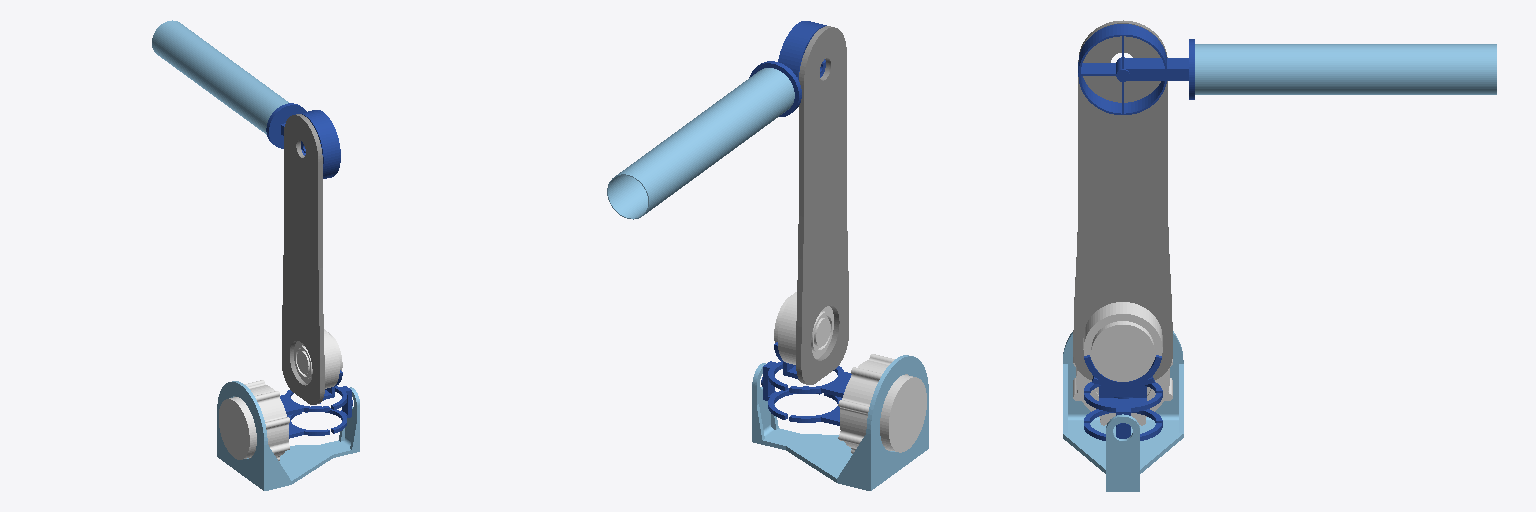
URDF robot description (sim_arm_131-1x3-none):
<?xml version='1.0' encoding='utf-8'?>
<robot name="sim_arm_131-1x3-none">
  <link name="link_rs01_sim_1">
    <visual>
      <origin xyz="0 0 0" rpy="0 0 0" />
      <geometry>
        <mesh filename="./meshes/rs01_sim_1.stl" />
      </geometry>
      <material name="link_rs01_sim_1_material">
        <color rgba="0.91764706 0.91764706 0.91764706 1" />
      </material>
    </visual>
    <collision>
      <origin xyz="0 0 0" rpy="0 0 0" />
      <geometry>
        <mesh filename="./meshes/rs01_sim_1.stl" />
      </geometry>
    </collision>
    <intertial>
      <mass value="0.38"/>
    </intertial>
    </link>
  <link name="link_main_shoulder_bracket_1">
    <visual>
      <origin xyz="0 0 0" rpy="0 0 0" />
      <geometry>
        <mesh filename="./meshes/main_shoulder_bracket_190fdce0f16e70a27.stl" />
      </geometry>
      <material name="link_main_shoulder_bracket_1_material">
        <color rgba="0.61568627 0.81176471 0.92941176 1" />
      </material>
    </visual>
    <collision>
      <origin xyz="0 0 0" rpy="0 0 0" />
      <geometry>
        <mesh filename="./meshes/main_shoulder_bracket_190fdce0f16e70a27.stl" />
      </geometry>
    </collision>
    <intertial>
      <mass value="0.152"/>
    </intertial>
    </link>
  <joint name="joint_j1" type="revolute">
    <origin xyz="0 0 0.016512915" rpy="3.1415927 0 0" />
    <parent link="link_rs01_sim_1" />
    <child link="link_main_shoulder_bracket_1" />
    <limit effort="80" velocity="5" lower="-3.1415927" upper="3.1415927" />
    <axis xyz="0 0 1" />
  </joint>
  <link name="link_rs03_sim_1">
    <visual>
      <origin xyz="0 0 0" rpy="0 0 0" />
      <geometry>
        <mesh filename="./meshes/rs03_sim_1.stl" />
      </geometry>
      <material name="link_rs03_sim_1_material">
        <color rgba="0.91764706 0.91764706 0.91764706 1" />
      </material>
    </visual>
    <collision>
      <origin xyz="0 0 0" rpy="0 0 0" />
      <geometry>
        <mesh filename="./meshes/rs03_sim_1.stl" />
      </geometry>
    </collision>
    <intertial>
      <mass value="0.88"/>
    </intertial>
    </link>
  <joint name="joint_bolt_12" type="fixed">
    <origin xyz="-0.10625 0 -0.067" rpy="-1.5707963 0 -1.5707963" />
    <parent link="link_main_shoulder_bracket_1" />
    <child link="link_rs03_sim_1" />
  </joint>
  <link name="link_m3_to_bearing_bracket_1">
    <visual>
      <origin xyz="0 0 0" rpy="0 0 0" />
      <geometry>
        <mesh filename="./meshes/m3_to_bearing_bracket_190fdce0f16e70a27.stl" />
      </geometry>
      <material name="link_m3_to_bearing_bracket_1_material">
        <color rgba="0.23137255 0.38039216 0.70588235 1" />
      </material>
    </visual>
    <collision>
      <origin xyz="0 0 0" rpy="0 0 0" />
      <geometry>
        <mesh filename="./meshes/m3_to_bearing_bracket_190fdce0f16e70a27.stl" />
      </geometry>
    </collision>
    <intertial>
      <mass value="0.035"/>
    </intertial>
    </link>
  <joint name="joint_j2" type="revolute">
    <origin xyz="0 0 0.042" rpy="3.1415927 0 0" />
    <parent link="link_rs03_sim_1" />
    <child link="link_m3_to_bearing_bracket_1" />
    <limit effort="80" velocity="5" lower="-3.1415927" upper="3.1415927" />
    <axis xyz="0 0 1" />
  </joint>
  <link name="link_rs01_sim_2">
    <visual>
      <origin xyz="0 0 0" rpy="0 0 0" />
      <geometry>
        <mesh filename="./meshes/rs01_sim_2.stl" />
      </geometry>
      <material name="link_rs01_sim_2_material">
        <color rgba="0.91764706 0.91764706 0.91764706 1" />
      </material>
    </visual>
    <collision>
      <origin xyz="0 0 0" rpy="0 0 0" />
      <geometry>
        <mesh filename="./meshes/rs01_sim_2.stl" />
      </geometry>
    </collision>
    <intertial>
      <mass value="0.38"/>
    </intertial>
    </link>
  <joint name="joint_bolt_23_m" type="fixed">
    <origin xyz="0 -0.014 -0.06425" rpy="-1.5707963 1.5707963 0" />
    <parent link="link_m3_to_bearing_bracket_1" />
    <child link="link_rs01_sim_2" />
  </joint>
  <link name="link_m2_to_m3_bracket_1">
    <visual>
      <origin xyz="0 0 0" rpy="0 0 0" />
      <geometry>
        <mesh filename="./meshes/m2_to_m3_bracket_190fdce0f16e70a27.stl" />
      </geometry>
      <material name="link_m2_to_m3_bracket_1_material">
        <color rgba="0.23137255 0.38039216 0.70588235 1" />
      </material>
    </visual>
    <collision>
      <origin xyz="0 0 0" rpy="0 0 0" />
      <geometry>
        <mesh filename="./meshes/m2_to_m3_bracket_190fdce0f16e70a27.stl" />
      </geometry>
    </collision>
    <intertial>
      <mass value="0.013"/>
    </intertial>
    </link>
  <joint name="joint_bolt_23_b" type="fixed">
    <origin xyz="0 0 0" rpy="0 0 0" />
    <parent link="link_rs01_sim_2" />
    <child link="link_m2_to_m3_bracket_1" />
  </joint>
  <link name="link_shoulder_input_1">
    <visual>
      <origin xyz="0 0 0" rpy="0 0 0" />
      <geometry>
        <mesh filename="./meshes/shoulder_input_1.stl" />
      </geometry>
      <material name="link_shoulder_input_1_material">
        <color rgba="0.23137255 0.38039216 0.70588235 1" />
      </material>
    </visual>
    <collision>
      <origin xyz="0 0 0" rpy="0 0 0" />
      <geometry>
        <mesh filename="./meshes/shoulder_input_1.stl" />
      </geometry>
    </collision>
    <intertial>
      <mass value="0.016"/>
    </intertial>
    </link>
  <joint name="joint_j3" type="revolute">
    <origin xyz="0 0 -0.004" rpy="0 0 0" />
    <parent link="link_rs01_sim_2" />
    <child link="link_shoulder_input_1" />
    <limit effort="80" velocity="5" lower="-2.6179939" upper="2.6179939" />
    <axis xyz="0 0 1" />
  </joint>
  <link name="link_main_plate_1">
    <visual>
      <origin xyz="0 0 0" rpy="0 0 0" />
      <geometry>
        <mesh filename="./meshes/main_plate_1.stl" />
      </geometry>
      <material name="link_main_plate_1_material">
        <color rgba="0.64705882 0.64705882 0.64705882 1" />
      </material>
    </visual>
    <collision>
      <origin xyz="0 0 0" rpy="0 0 0" />
      <geometry>
        <mesh filename="./meshes/main_plate_1.stl" />
      </geometry>
    </collision>
    <intertial>
      <mass value="0.539"/>
    </intertial>
    </link>
  <joint name="joint_elbow_fasten_1" type="fixed">
    <origin xyz="-0.0165 0 -0.003" rpy="-3.1415927 -1.5707963 0" />
    <parent link="link_shoulder_input_1" />
    <child link="link_main_plate_1" />
  </joint>
  <link name="link_rs01_sim_3">
    <visual>
      <origin xyz="0 0 0" rpy="0 0 0" />
      <geometry>
        <mesh filename="./meshes/rs01_sim_3.stl" />
      </geometry>
      <material name="link_rs01_sim_3_material">
        <color rgba="0.91764706 0.91764706 0.91764706 1" />
      </material>
    </visual>
    <collision>
      <origin xyz="0 0 0" rpy="0 0 0" />
      <geometry>
        <mesh filename="./meshes/rs01_sim_3.stl" />
      </geometry>
    </collision>
    <intertial>
      <mass value="0.38"/>
    </intertial>
    </link>
  <joint name="joint_elbow_fasten_2" type="fixed">
    <origin xyz="-0.04925 0 0" rpy="0 0 0" />
    <parent link="link_main_plate_1" />
    <child link="link_rs01_sim_3" />
  </joint>
  <link name="link_motor_side_shell_1">
    <visual>
      <origin xyz="0 0 0" rpy="0 0 0" />
      <geometry>
        <mesh filename="./meshes/motor_side_shell_1.stl" />
      </geometry>
      <material name="link_motor_side_shell_1_material">
        <color rgba="0.91764706 0.91764706 0.91764706 1" />
      </material>
    </visual>
    <collision>
      <origin xyz="0 0 0" rpy="0 0 0" />
      <geometry>
        <mesh filename="./meshes/motor_side_shell_1.stl" />
      </geometry>
    </collision>
    <intertial>
      <mass value="0.114"/>
    </intertial>
    </link>
  <joint name="joint_elbow_fasten_4" type="fixed">
    <origin xyz="-0.039625 -0.04925 0" rpy="3.1415927 0 0" />
    <parent link="link_main_plate_1" />
    <child link="link_motor_side_shell_1" />
  </joint>
  <link name="link_trans_side_shell_1">
    <visual>
      <origin xyz="0 0 0" rpy="0 0 0" />
      <geometry>
        <mesh filename="./meshes/trans_side_shell_1.stl" />
      </geometry>
      <material name="link_trans_side_shell_1_material">
        <color rgba="0.91764706 0.91764706 0.91764706 1" />
      </material>
    </visual>
    <collision>
      <origin xyz="0 0 0" rpy="0 0 0" />
      <geometry>
        <mesh filename="./meshes/trans_side_shell_1.stl" />
      </geometry>
    </collision>
    <intertial>
      <mass value="0.096"/>
    </intertial>
    </link>
  <joint name="joint_elbow_fasten_5" type="fixed">
    <origin xyz="-0.039625 -0.04925 -0.00625" rpy="0 0 0" />
    <parent link="link_main_plate_1" />
    <child link="link_trans_side_shell_1" />
  </joint>
  <link name="link_secondary_plate_1">
    <visual>
      <origin xyz="0 0 0" rpy="0 0 0" />
      <geometry>
        <mesh filename="./meshes/secondary_plate_1.stl" />
      </geometry>
      <material name="link_secondary_plate_1_material">
        <color rgba="0.91764706 0.91764706 0.91764706 1" />
      </material>
    </visual>
    <collision>
      <origin xyz="0 0 0" rpy="0 0 0" />
      <geometry>
        <mesh filename="./meshes/secondary_plate_1.stl" />
      </geometry>
    </collision>
    <intertial>
      <mass value="0.233"/>
    </intertial>
    </link>
  <joint name="joint_elbow_fasten_3" type="fixed">
    <origin xyz="0 0 0.028" rpy="3.1415927 0 0" />
    <parent link="link_rs01_sim_3" />
    <child link="link_secondary_plate_1" />
  </joint>
  <link name="link_wrist_output_1">
    <visual>
      <origin xyz="0 0 0" rpy="0 0 0" />
      <geometry>
        <mesh filename="./meshes/wrist_output_1.stl" />
      </geometry>
      <material name="link_wrist_output_1_material">
        <color rgba="0.23137255 0.38039216 0.70588235 1" />
      </material>
    </visual>
    <collision>
      <origin xyz="0 0 0" rpy="0 0 0" />
      <geometry>
        <mesh filename="./meshes/wrist_output_1.stl" />
      </geometry>
    </collision>
    <intertial>
      <mass value="0.073"/>
    </intertial>
    </link>
  <joint name="joint_j4" type="revolute">
    <origin xyz="-0.3 0 -0.00075" rpy="3.1415927 0 1.5707963" />
    <parent link="link_secondary_plate_1" />
    <child link="link_wrist_output_1" />
    <limit effort="80" velocity="5" lower="-2.6179939" upper="2.6179939" />
    <axis xyz="0 0 1" />
  </joint>
  <link name="link_dummy_tube_wrist_1">
    <visual>
      <origin xyz="0 0 0" rpy="0 0 0" />
      <geometry>
        <mesh filename="./meshes/dummy_tube_wrist_1.stl" />
      </geometry>
      <material name="link_dummy_tube_wrist_1_material">
        <color rgba="0.61568627 0.81176471 0.92941176 1" />
      </material>
    </visual>
    <collision>
      <origin xyz="0 0 0" rpy="0 0 0" />
      <geometry>
        <mesh filename="./meshes/dummy_tube_wrist_1.stl" />
      </geometry>
    </collision>
    <intertial>
      <mass value="0.116"/>
    </intertial>
    </link>
  <joint name="joint_forearm_fasten" type="fixed">
    <origin xyz="-0.07125 0 -0.01475" rpy="-3.1415927 -1.5707963 0" />
    <parent link="link_wrist_output_1" />
    <child link="link_dummy_tube_wrist_1" />
  </joint>
</robot>

--- Facts derived from the render (not from the file) ---
The picture shows the robot from 3 angles, left to right: view 1: azimuth 30°, elevation 25°; view 2: azimuth 150°, elevation 25°; view 3: azimuth 270°, elevation 25°; orthographic projection.
Robot: sim_arm_131-1x3-none — 14 links, 13 joints (4 revolute, 9 fixed); root link link_rs01_sim_1; default pose: all joints at 0.
Links seen in each view (by area): view 1: link_main_plate_1, link_dummy_tube_wrist_1, link_main_shoulder_bracket_1, link_rs03_sim_1, link_wrist_output_1, link_rs01_sim_3, link_m3_to_bearing_bracket_1, link_m2_to_m3_bracket_1; view 2: link_main_plate_1, link_dummy_tube_wrist_1, link_main_shoulder_bracket_1, link_rs03_sim_1, link_rs01_sim_3, link_wrist_output_1, link_m3_to_bearing_bracket_1, link_m2_to_m3_bracket_1; view 3: link_main_plate_1, link_dummy_tube_wrist_1, link_main_shoulder_bracket_1, link_rs01_sim_3, link_wrist_output_1, link_m2_to_m3_bracket_1, link_rs03_sim_1, link_shoulder_input_1, link_m3_to_bearing_bracket_1.
Link boxes in pixels (bbox=[...]): link_main_plate_1: bbox=[282, 114, 324, 404]; link_dummy_tube_wrist_1: bbox=[152, 20, 288, 134]; link_main_shoulder_bracket_1: bbox=[217, 381, 359, 490]; link_rs03_sim_1: bbox=[219, 380, 289, 460]; link_wrist_output_1: bbox=[266, 103, 340, 178]; link_rs01_sim_3: bbox=[294, 329, 342, 388]; link_m3_to_bearing_bracket_1: bbox=[280, 390, 329, 438]; link_m2_to_m3_bracket_1: bbox=[304, 386, 352, 433]; link_main_plate_1: bbox=[796, 26, 848, 384]; link_dummy_tube_wrist_1: bbox=[607, 68, 794, 219]; link_main_shoulder_bracket_1: bbox=[752, 355, 928, 490]; link_rs03_sim_1: bbox=[838, 354, 926, 453]; link_rs01_sim_3: bbox=[774, 292, 833, 364]; link_wrist_output_1: bbox=[749, 21, 826, 116]; link_m3_to_bearing_bracket_1: bbox=[789, 366, 851, 425]; link_m2_to_m3_bracket_1: bbox=[761, 361, 821, 419]; link_main_plate_1: bbox=[1073, 20, 1172, 379]; link_dummy_tube_wrist_1: bbox=[1195, 44, 1496, 94]; link_main_shoulder_bracket_1: bbox=[1063, 331, 1183, 491]; link_rs01_sim_3: bbox=[1083, 302, 1162, 381]; link_wrist_output_1: bbox=[1078, 24, 1194, 114]; link_m2_to_m3_bracket_1: bbox=[1084, 393, 1162, 440]; link_rs03_sim_1: bbox=[1073, 357, 1172, 425]; link_shoulder_input_1: bbox=[1084, 355, 1161, 398]; link_m3_to_bearing_bracket_1: bbox=[1084, 382, 1162, 422].
Bounding box of the posed robot: 0.1751 × 0.4312 × 0.4815 m (x, y, z).
Meshes: 14 distinct files referenced, 9 mesh visuals loaded (9 binary STL); not drawn: 5 (reference not matched to a file when rendering).